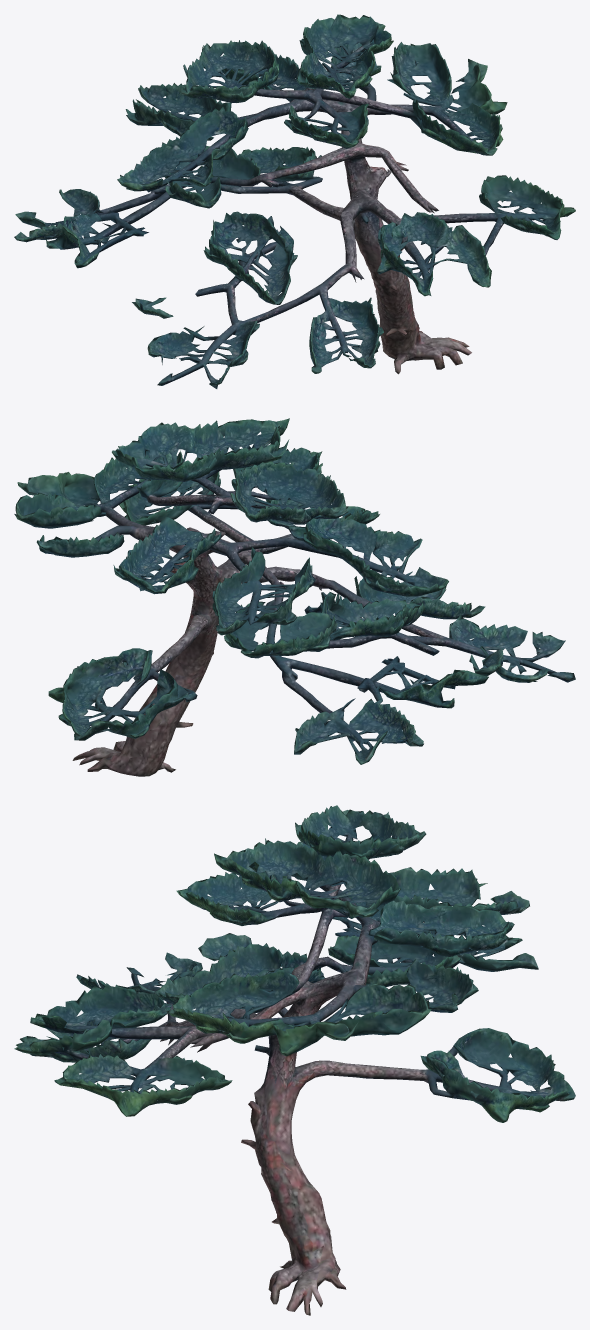
The model's file is pine_guest.glb.
3 renders of one model, top to bottom at view 1: azimuth 30°, elevation 25°; view 2: azimuth 150°, elevation 25°; view 3: azimuth 270°, elevation 25°, orthographic. The views are drawn at different scales.
Visible parts, largest first — view 1: tripo_node_5d9b604e-8138-482f-a57a-08df7db635b6; view 2: tripo_node_5d9b604e-8138-482f-a57a-08df7db635b6; view 3: tripo_node_5d9b604e-8138-482f-a57a-08df7db635b6.
Boxes of the visible parts, left/top/right/bottom form: tripo_node_5d9b604e-8138-482f-a57a-08df7db635b6: left=14, top=14, right=575, bottom=388; tripo_node_5d9b604e-8138-482f-a57a-08df7db635b6: left=14, top=418, right=575, bottom=776; tripo_node_5d9b604e-8138-482f-a57a-08df7db635b6: left=14, top=805, right=575, bottom=1315.
Bounding box in the file's own units: 1 × 0.7537 × 0.9973.
Materials: 1 (1 with a texture image).
